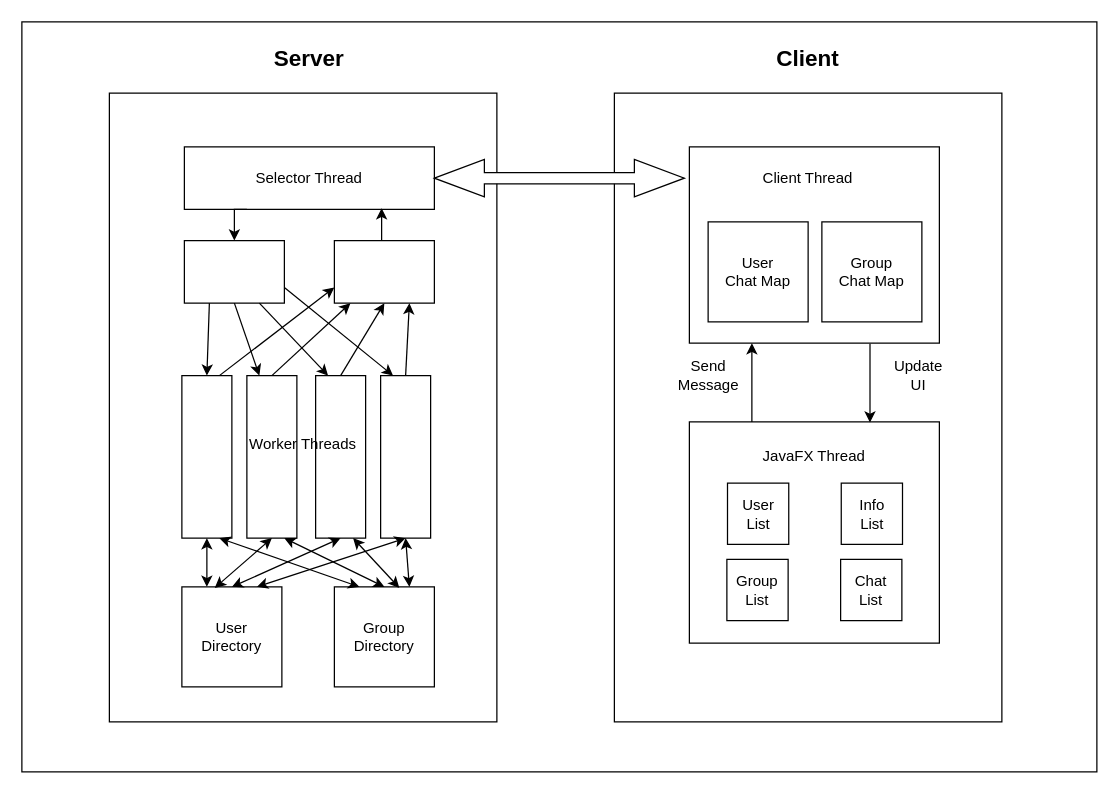
Some shapes in this 1119 by 794 pixel diagram are drawn without their labels. Here are the shapes that lost their labels. From the top down, the centre of each, then its label:
pixel 233 271: Unprocessed Task
pixel 383 271: Pending Write data
